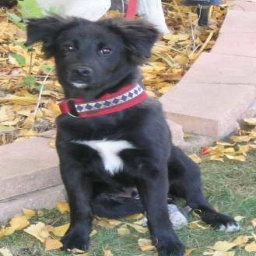dog: (28, 9, 226, 235)
